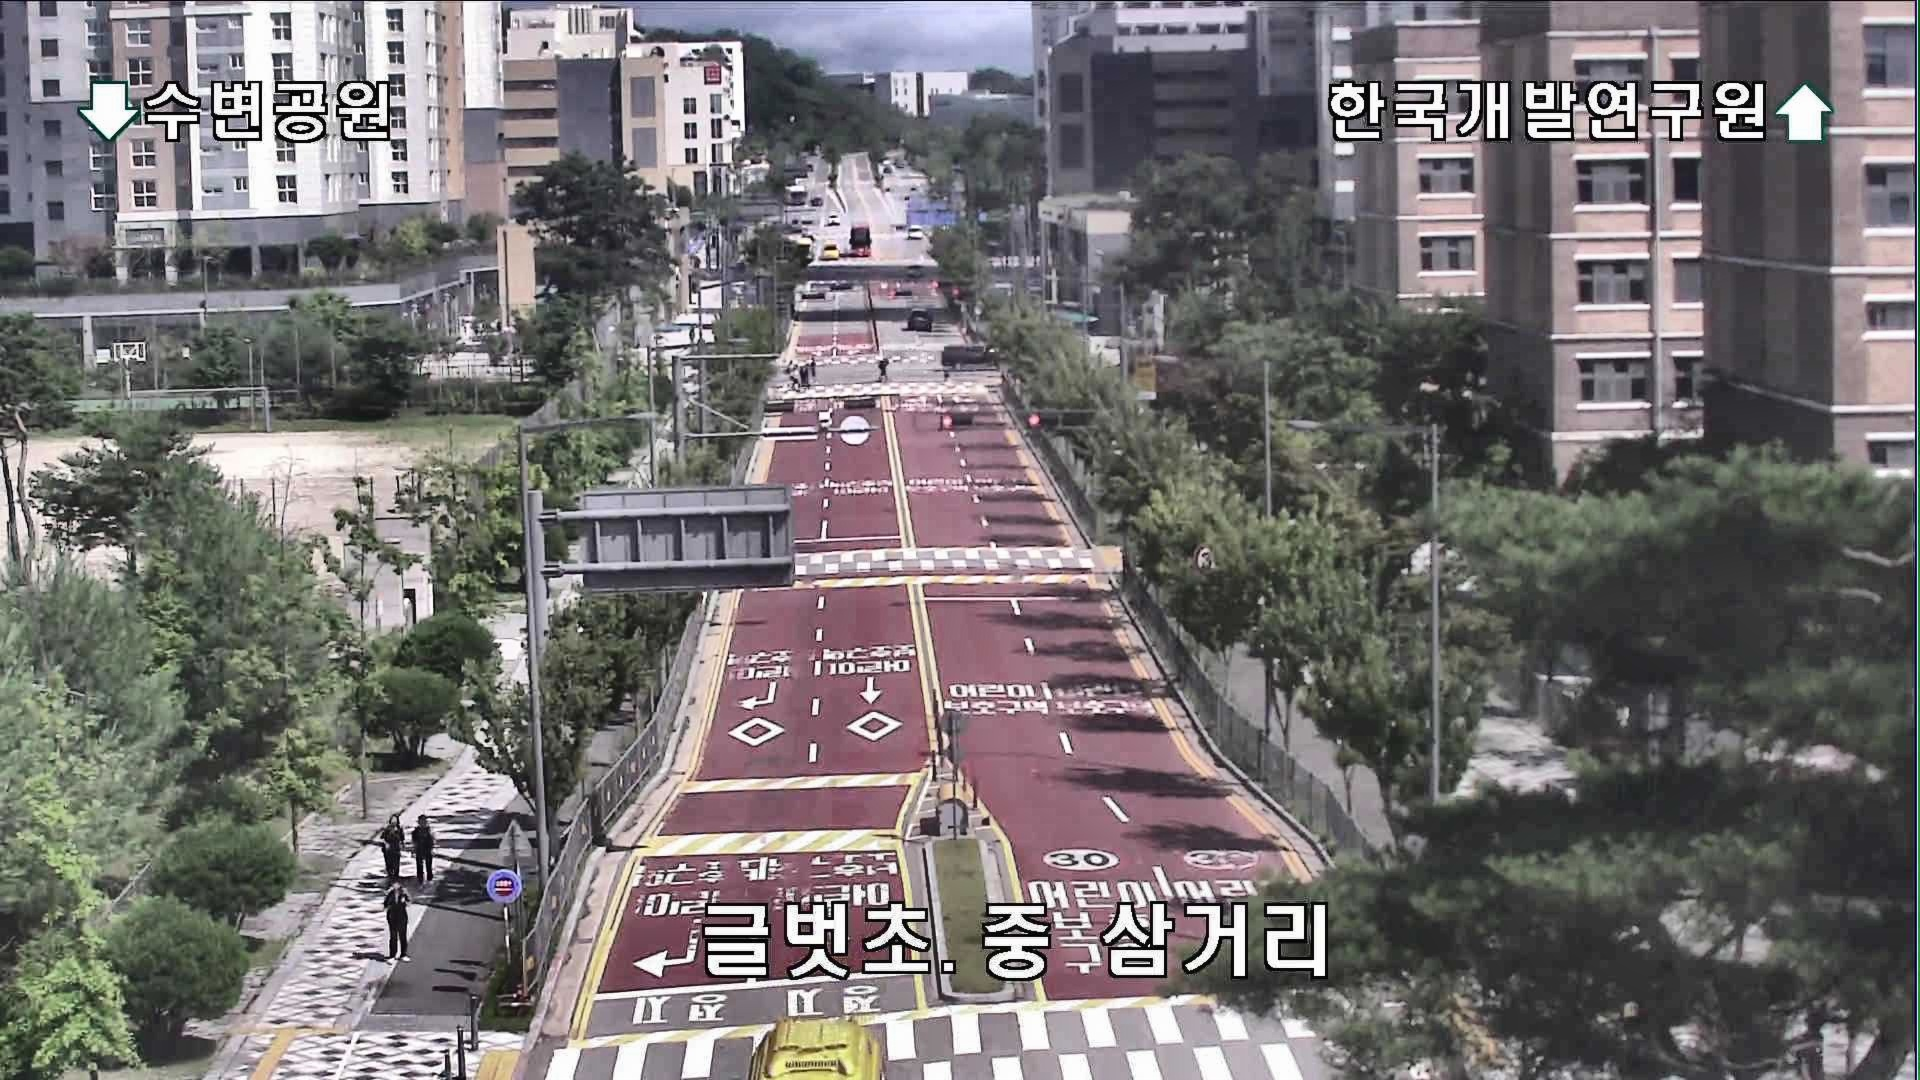sidewalk: (380, 876, 411, 967), (378, 811, 405, 891), (411, 812, 435, 886)
